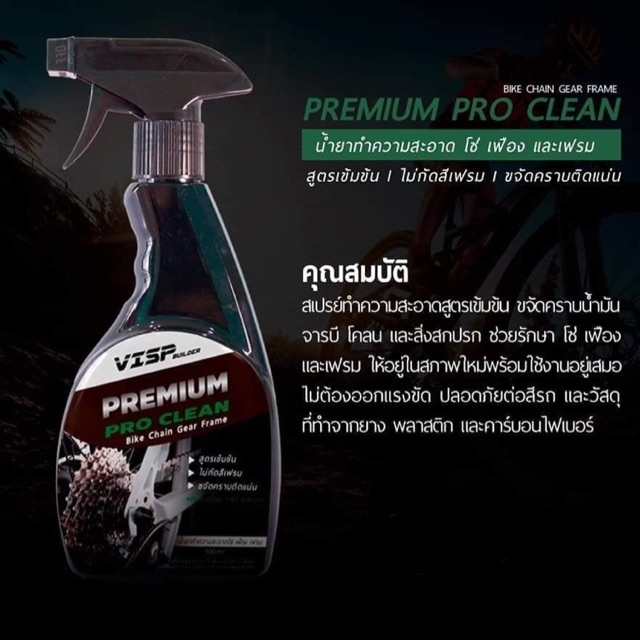Cleaning_solution: (32, 27, 302, 615)
